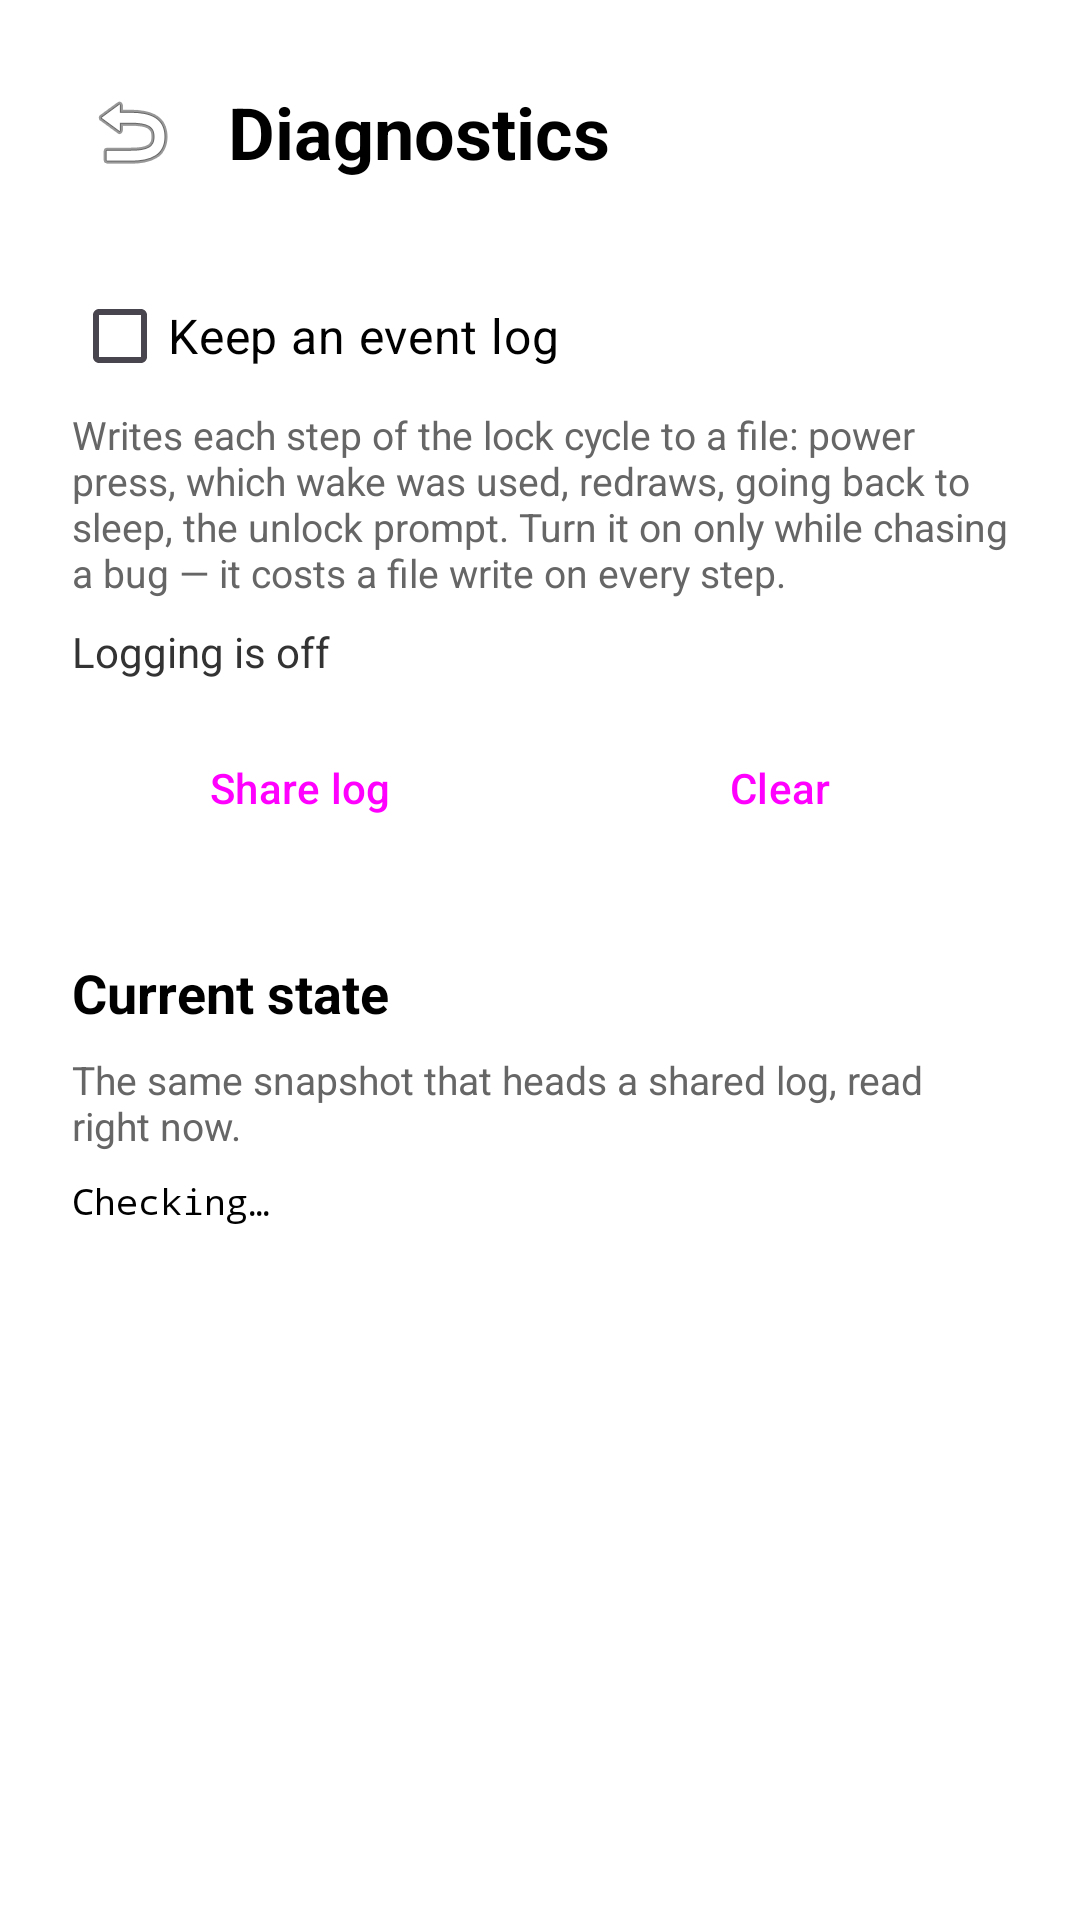

Where icons sit on this 1080*1920 app screen, as box=[x1, y1, x2, y2]:
Back: box=[99, 101, 168, 164]
